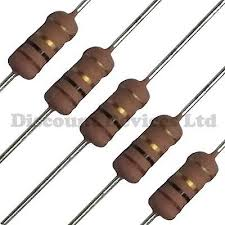resistor: (38, 37, 121, 116), (9, 3, 82, 92), (146, 142, 221, 225), (78, 73, 156, 147), (115, 113, 188, 186)
